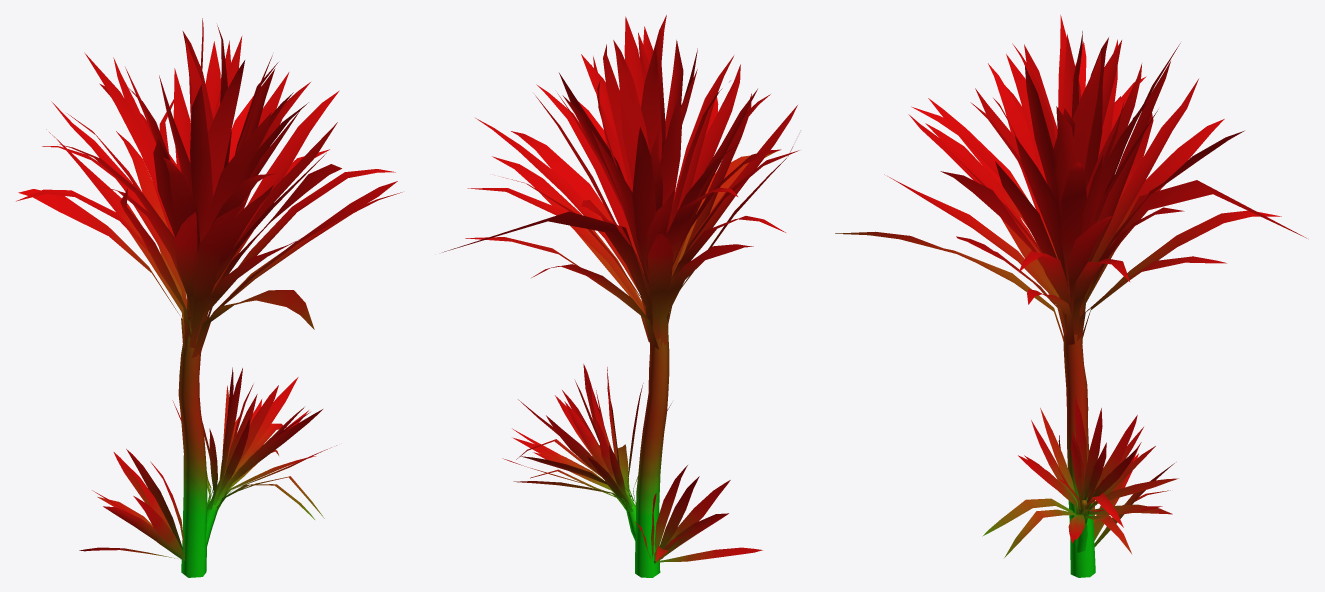
File: SM_Palm05_LOD2.fbx
The picture shows the model from 3 angles, left to right: view 1: azimuth 30°, elevation 25°; view 2: azimuth 150°, elevation 25°; view 3: azimuth 270°, elevation 25°; orthographic projection.
Visible parts, largest first — view 1: _bown_Var8_LOD4; view 2: _bown_Var8_LOD4; view 3: _bown_Var8_LOD4.
Boxes of the visible parts, x1,y1,x2,y2 form: _bown_Var8_LOD4: (16, 18, 402, 577); _bown_Var8_LOD4: (442, 15, 799, 577); _bown_Var8_LOD4: (835, 15, 1306, 577).
Bounding box in the file's own units: 69.57 × 105 × 83.16.
